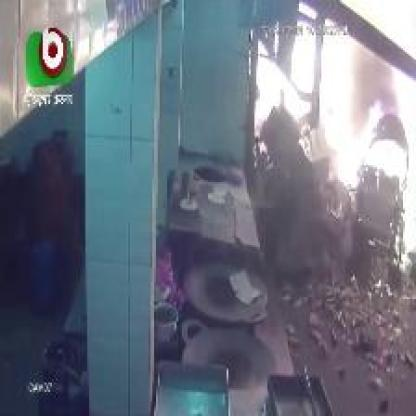fire: (253, 2, 362, 184), (351, 2, 416, 271)
